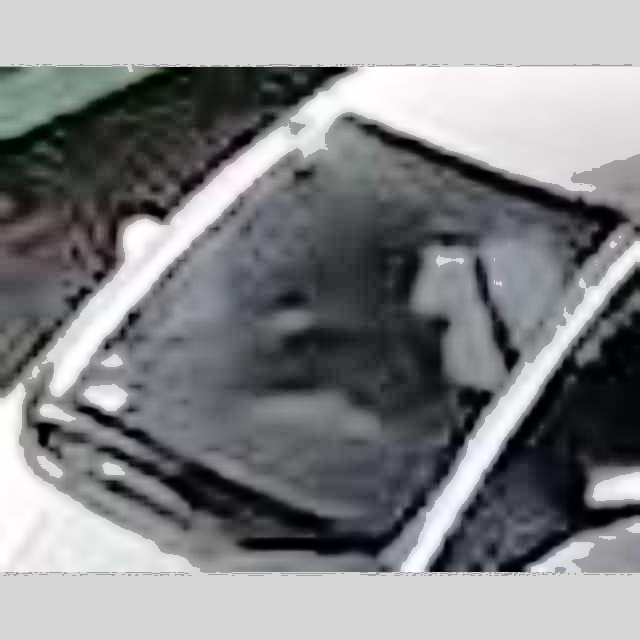pakai: (379, 209, 577, 399)
